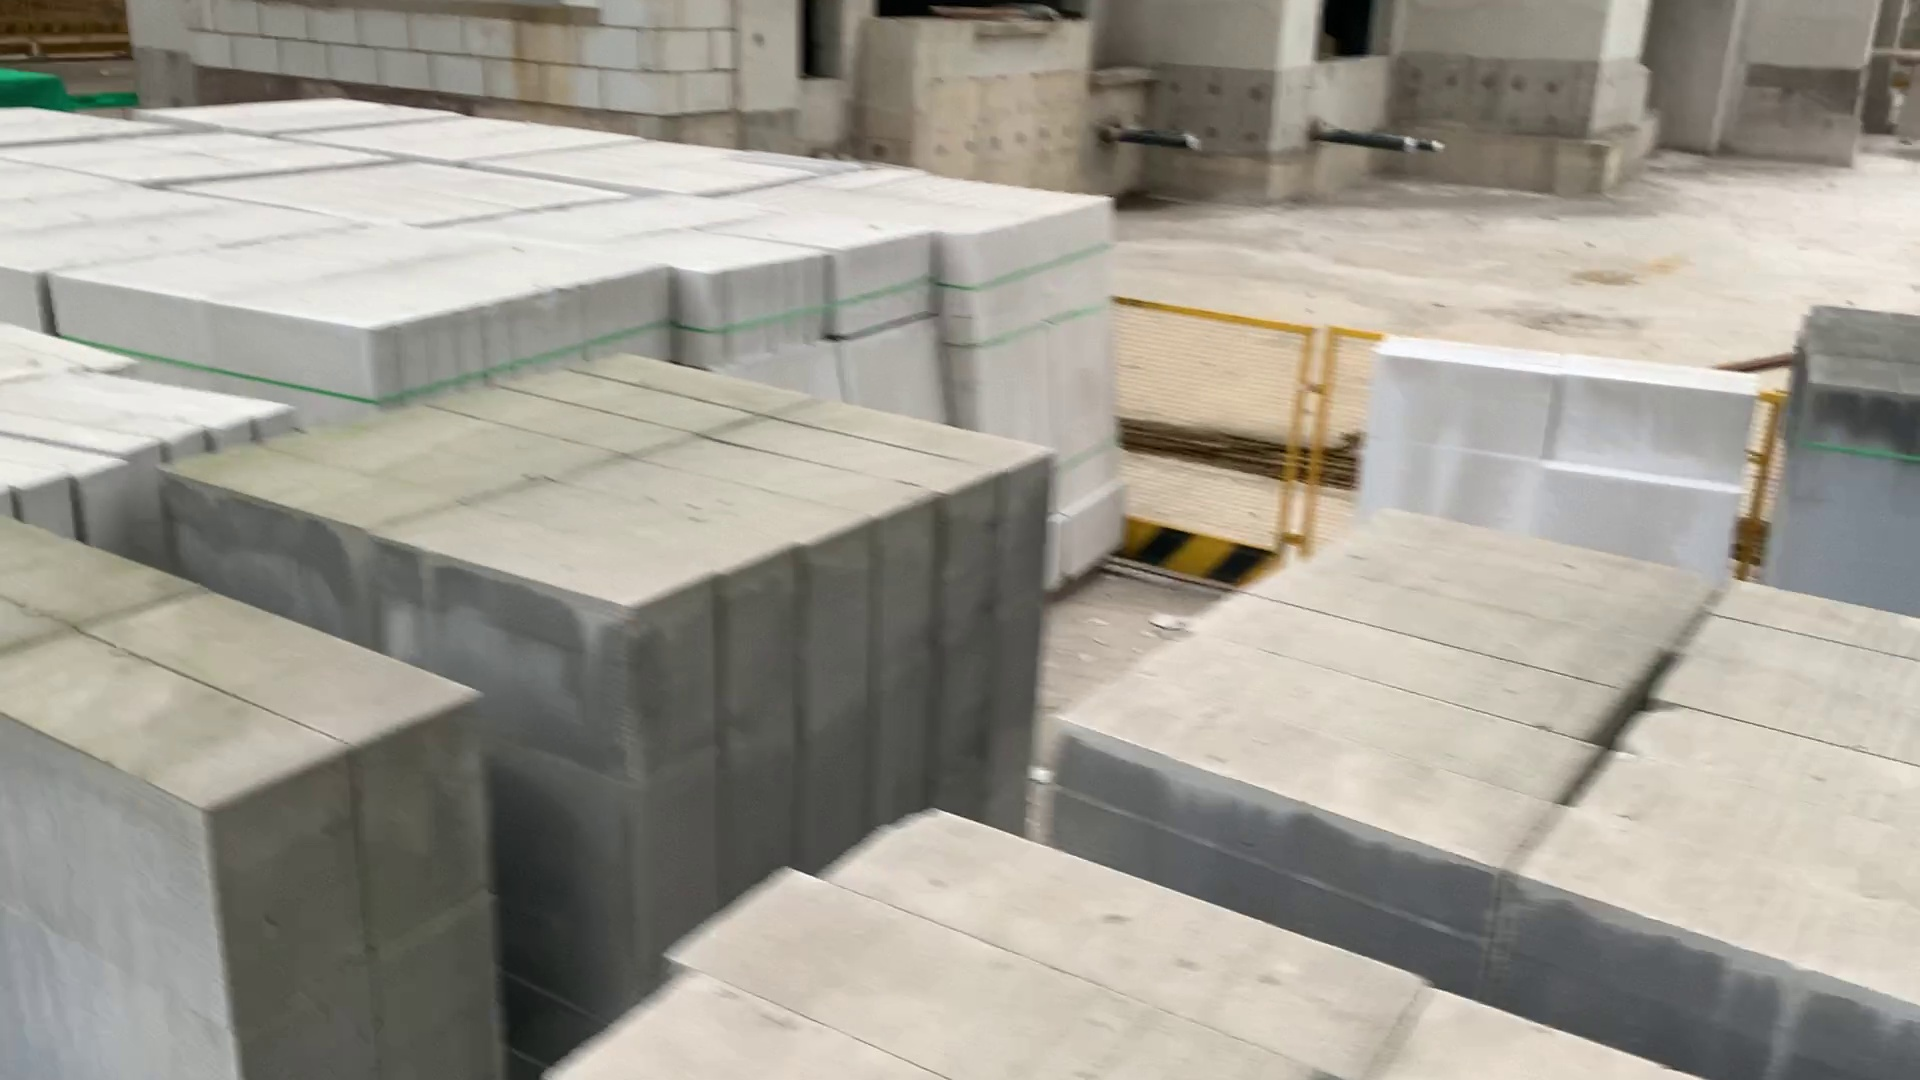brickwork: (1052, 502, 1920, 1017), (541, 812, 1675, 1080), (187, 342, 1064, 630), (8, 525, 493, 1007), (41, 220, 673, 353), (1, 316, 293, 514), (1783, 298, 1920, 578), (3, 177, 364, 270), (756, 165, 1110, 237), (141, 79, 458, 133), (193, 173, 612, 212), (302, 115, 622, 164), (15, 135, 378, 175)
